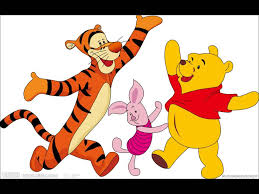Winnie: (165, 42, 233, 114)
